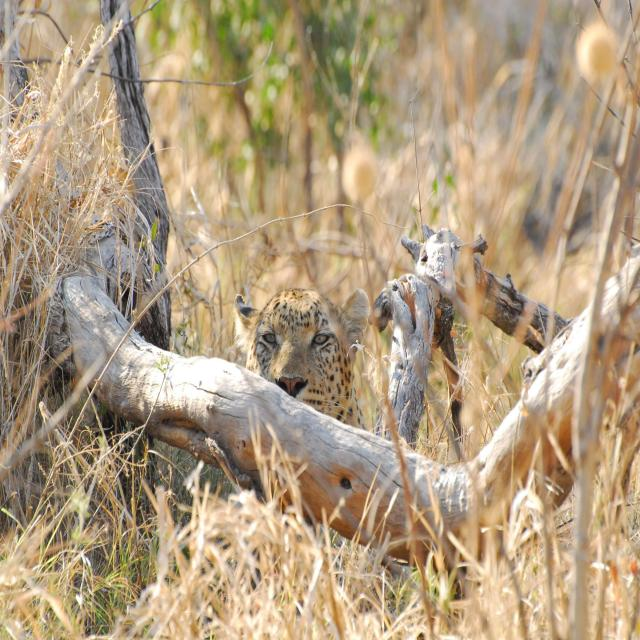Leopard: (233, 284, 379, 451)
